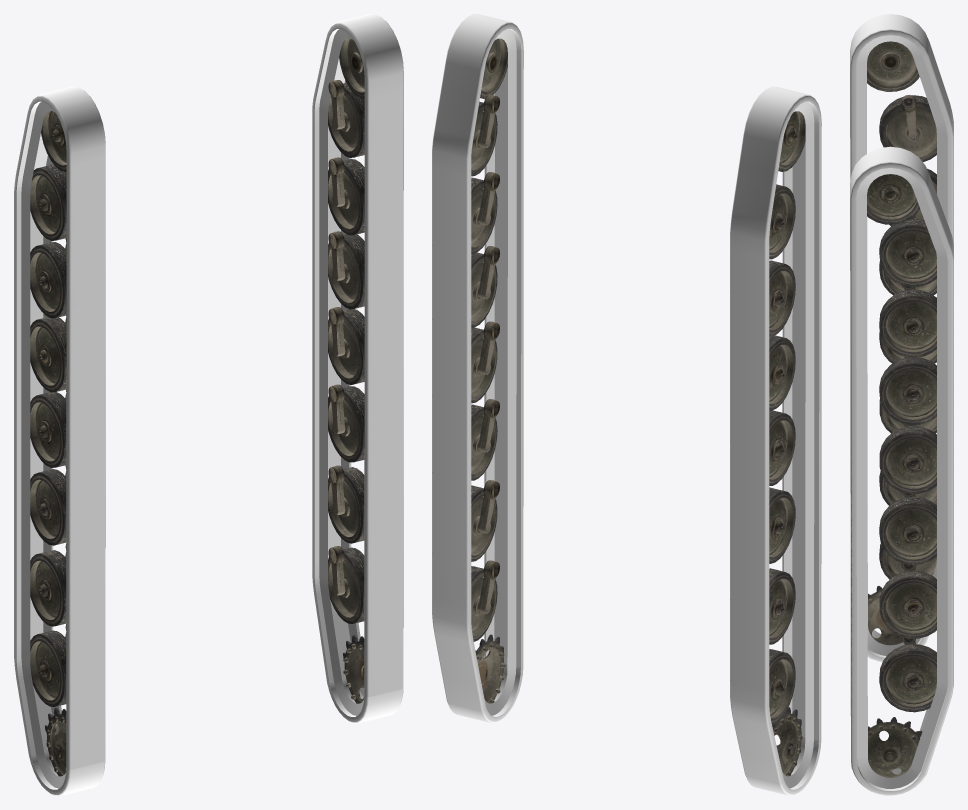
File: Chassis.glb
3 renders of one model, left to right at view 1: azimuth 30°, elevation 25°; view 2: azimuth 150°, elevation 25°; view 3: azimuth 270°, elevation 25°, orthographic. The views are drawn at different scales.
Parts seen in each view (by area): view 1: set_1_group_0, set_3_group_0, set_5_group_0, set_4_group_0, set_2_group_0, set_0_group_0; view 2: set_1_group_0, set_3_group_0, set_5_group_0, set_4_group_0, set_0_group_0, set_2_group_0; view 3: set_5_group_0, set_3_group_0, set_4_group_0, set_1_group_0, set_2_group_0, set_0_group_0.
Part boxes in pixels (bbox=[...]): set_1_group_0: bbox=[14, 86, 105, 795]; set_3_group_0: bbox=[312, 14, 403, 723]; set_5_group_0: bbox=[328, 38, 364, 703]; set_4_group_0: bbox=[30, 111, 66, 776]; set_2_group_0: bbox=[364, 526, 403, 614]; set_0_group_0: bbox=[66, 224, 105, 309]; set_1_group_0: bbox=[730, 86, 821, 795]; set_3_group_0: bbox=[432, 14, 523, 723]; set_5_group_0: bbox=[471, 38, 507, 703]; set_4_group_0: bbox=[769, 111, 805, 776]; set_0_group_0: bbox=[782, 196, 821, 282]; set_2_group_0: bbox=[484, 499, 523, 587]; set_5_group_0: bbox=[867, 174, 936, 777]; set_3_group_0: bbox=[850, 146, 953, 795]; set_4_group_0: bbox=[867, 41, 936, 645]; set_1_group_0: bbox=[850, 14, 953, 662]; set_2_group_0: bbox=[850, 609, 867, 685]; set_0_group_0: bbox=[850, 134, 866, 180].
Bounding box in the file's own units: 2.74 × 5.43 × 0.8063.
Materials: 6 (2 with a texture image).
